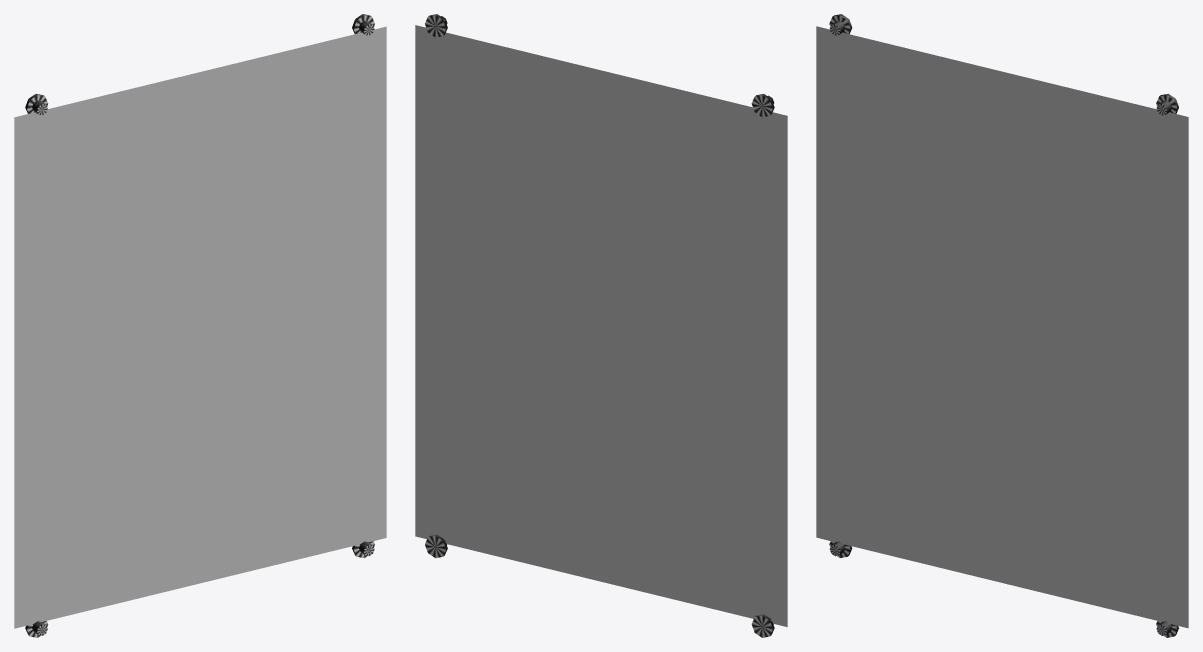
Rendered from mirror1.FBX.
3 renders of one model, left to right at view 1: azimuth 30°, elevation 25°; view 2: azimuth 150°, elevation 25°; view 3: azimuth 330°, elevation 25°, orthographic.
Parts seen in each view (by area): view 1: Plane001; view 2: Plane001; view 3: Plane001.
Boxes of the visible parts, x1=… form: Plane001: x1=14, y1=14, x2=386, y2=637; Plane001: x1=415, y1=14, x2=787, y2=637; Plane001: x1=816, y1=14, x2=1188, y2=637.
Bounding box in the file's own units: 20.32 × 0.6113 × 28.29.
